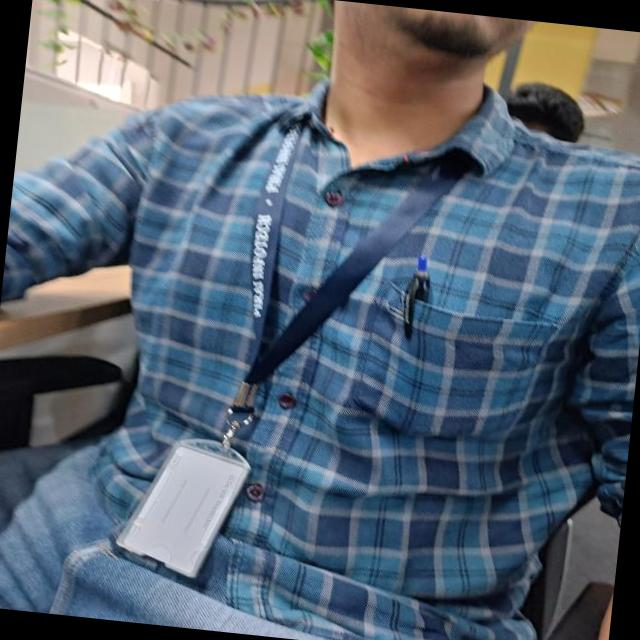id_card: (110, 117, 471, 602)
